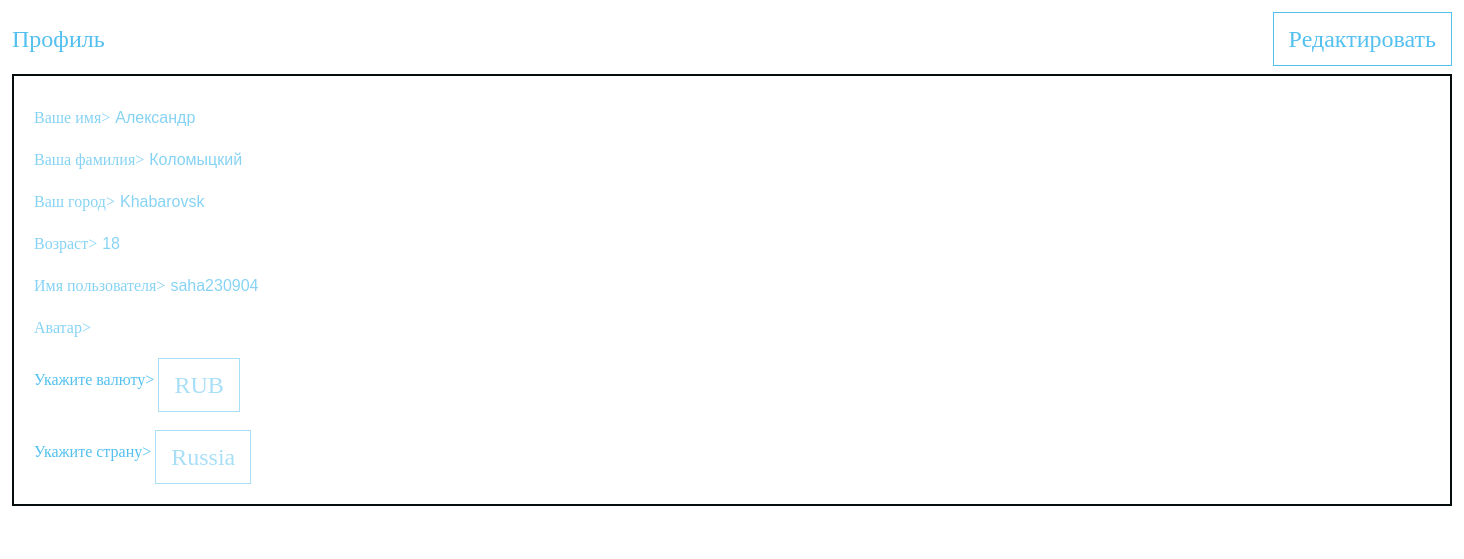
it: features/EditableProfileCard › Errors
Click the button with test id "EditableProfileCardHeader.Edit": (1362, 39) [1273,12,1452,66]
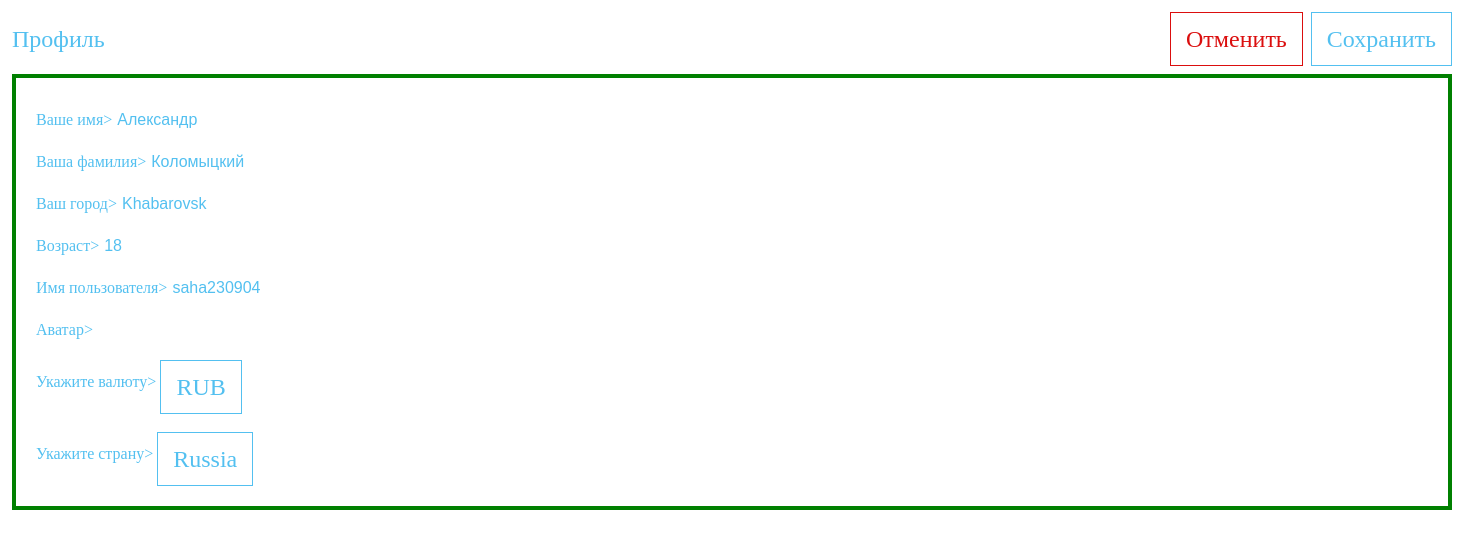
Clear the field with test id "ProfileCard.firstname": (221, 120) [117,111,324,129]
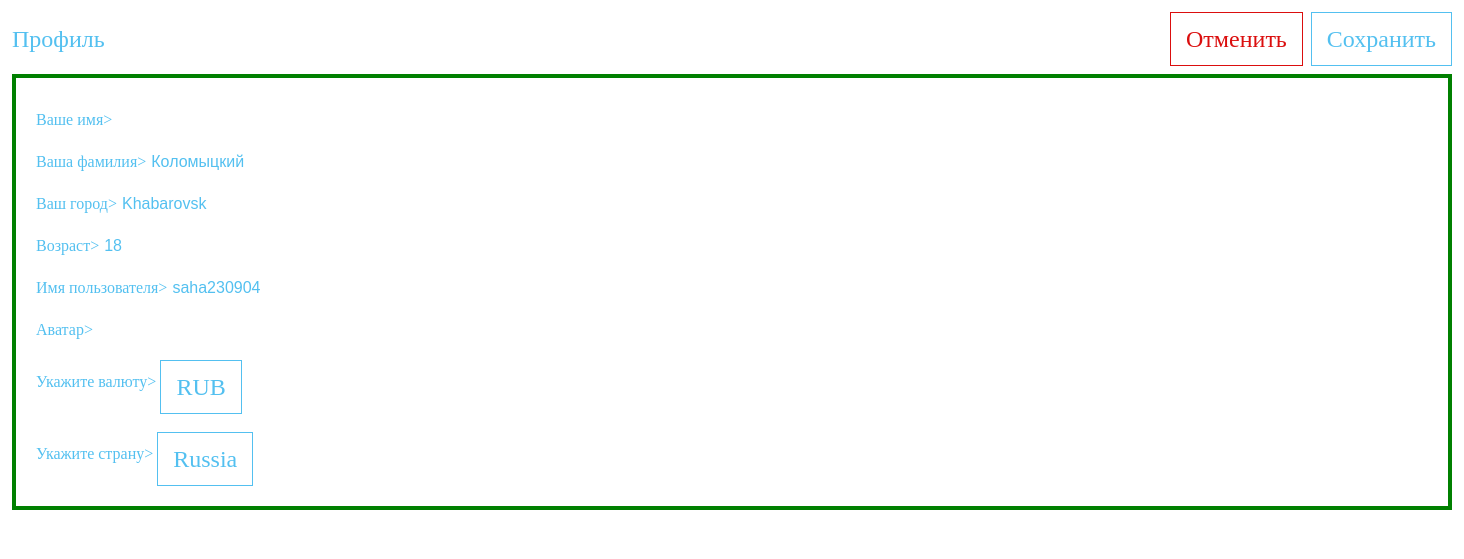
Clear the field with test id "ProfileCard.lastname": (255, 162) [151,153,358,171]
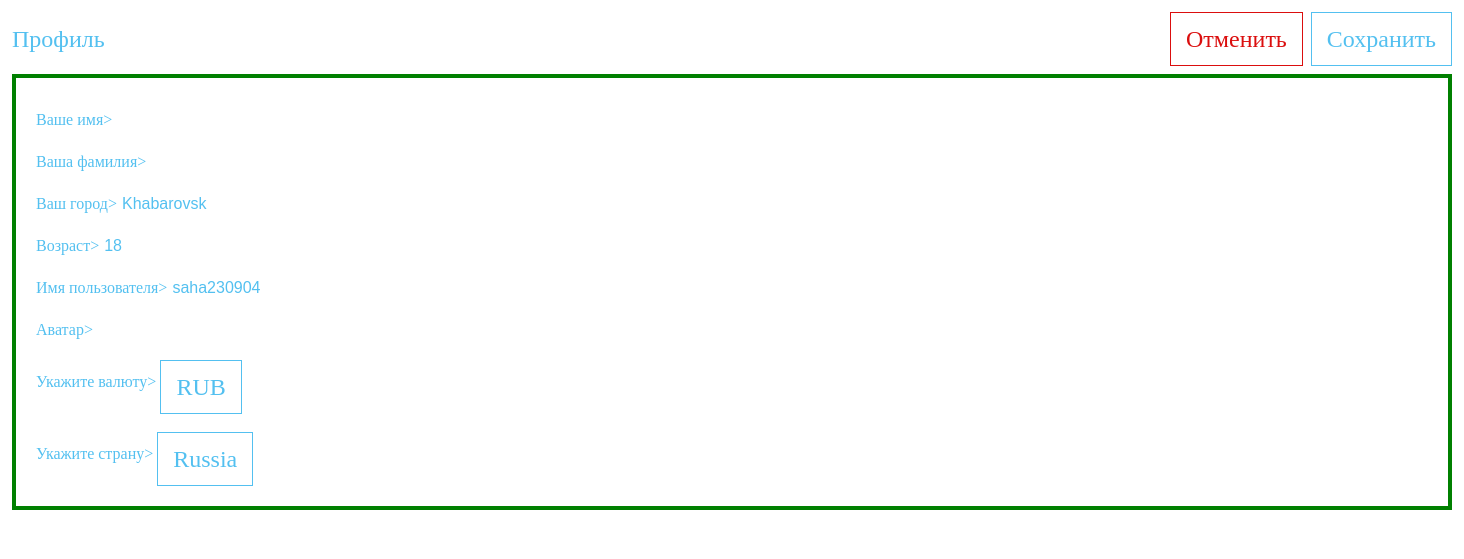
Click the button with test id "EditableProfileCardHeader.Save": (1381, 39) [1311,12,1452,66]
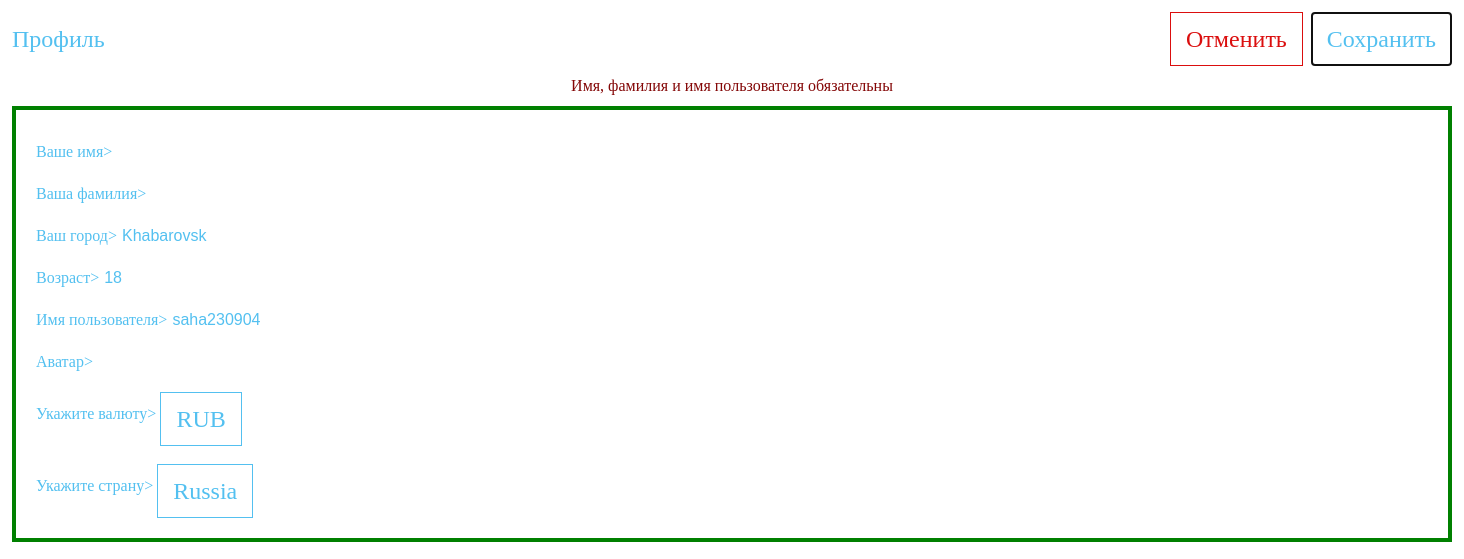
Expected: the text "Имя, фамилия и имя пользователя обязательны" is shown, [571,74,893,98]
